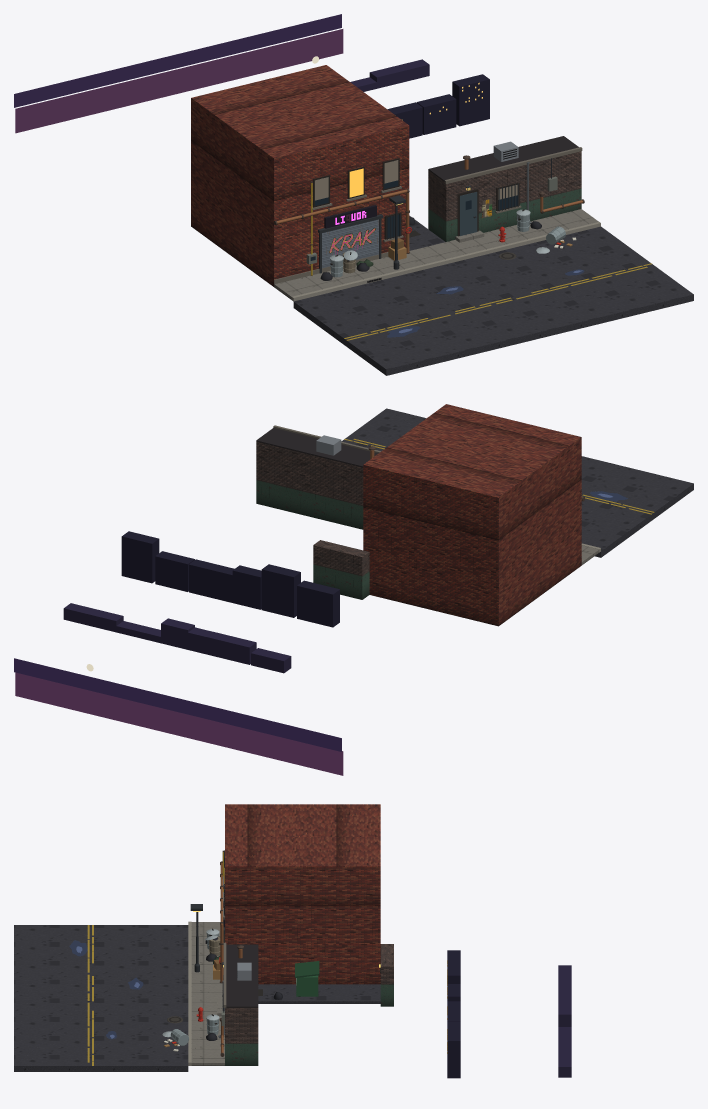
The model's file is street.glb.
3 views of the same model, one above another, from view 1: azimuth 30°, elevation 25°; view 2: azimuth 150°, elevation 25°; view 3: azimuth 270°, elevation 25° (orthographic). The views are drawn at different scales.
Visible parts, largest first — view 1: street; view 2: street; view 3: street.
Part boxes in pixels (x1,y1,x2,y2): street: (14, 14, 693, 375); street: (14, 404, 693, 775); street: (14, 804, 571, 1078).
Bounding box in the file's own units: 16.81 × 7.2 × 30.6.
Materials: 53 (6 with a texture image).
